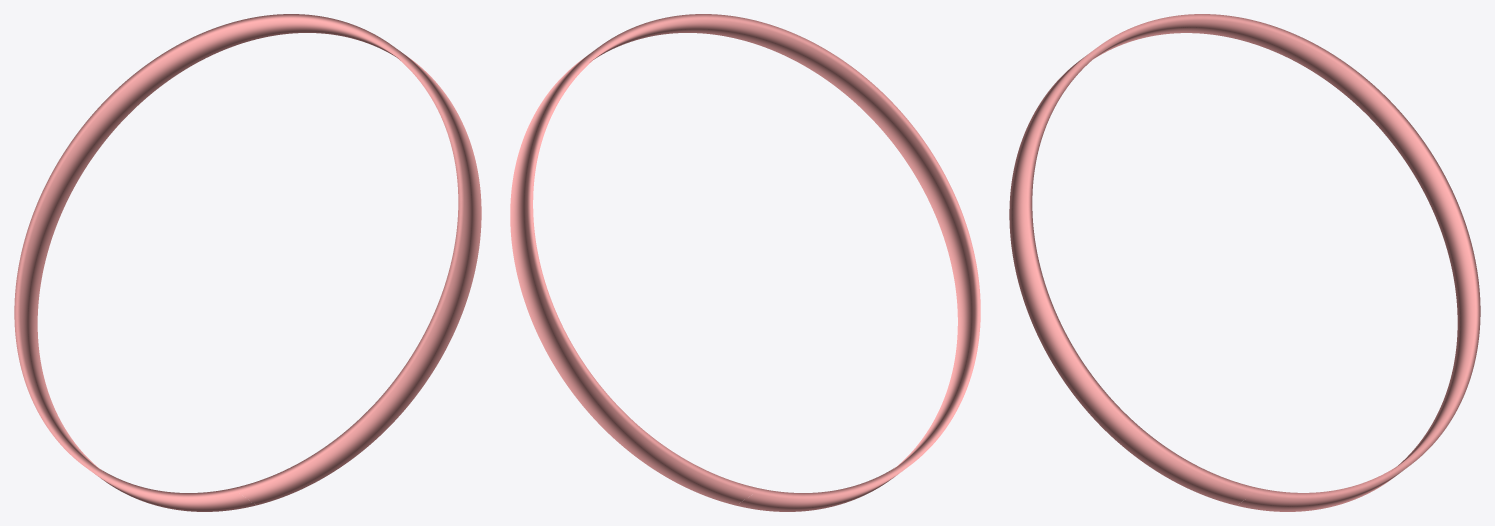
Rendered from coil_coil_8_tube.gltf.
3 views of the same model, side by side, from view 1: azimuth 30°, elevation 25°; view 2: azimuth 150°, elevation 25°; view 3: azimuth 330°, elevation 25° (orthographic).
Parts seen in each view (by area): view 1: Renderer Node; view 2: Renderer Node; view 3: Renderer Node.
Part boxes in pixels (x1=…): Renderer Node: x1=14, y1=14, x2=481, y2=511; Renderer Node: x1=510, y1=14, x2=980, y2=511; Renderer Node: x1=1009, y1=14, x2=1480, y2=511.
Size of the model in its own units: 0.6083 by 0.6081 by 0.0446.
